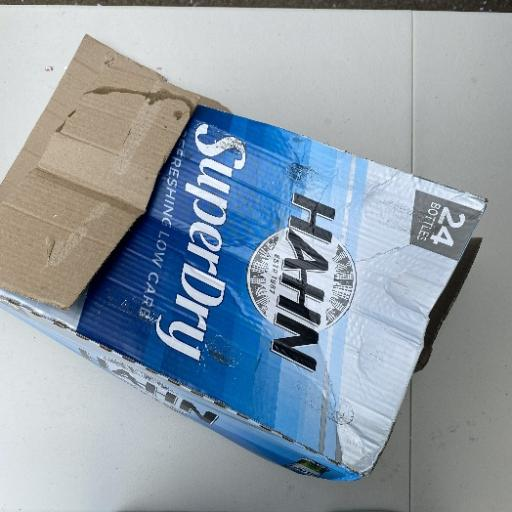Cardboard: (2, 32, 489, 484)
